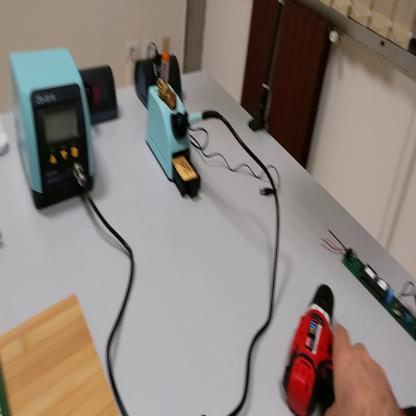electric screwdriver: (279, 282, 416, 416)
hand: (321, 324, 401, 415)
high voltage board: (319, 226, 416, 343)
low voltage board: (2, 372, 10, 415)
socket: (134, 48, 183, 107), (78, 62, 119, 128)
welder base: (147, 50, 203, 203)
welder probe tip: (180, 107, 217, 131)
welder station: (7, 46, 97, 211)
working area: (3, 294, 137, 415)
